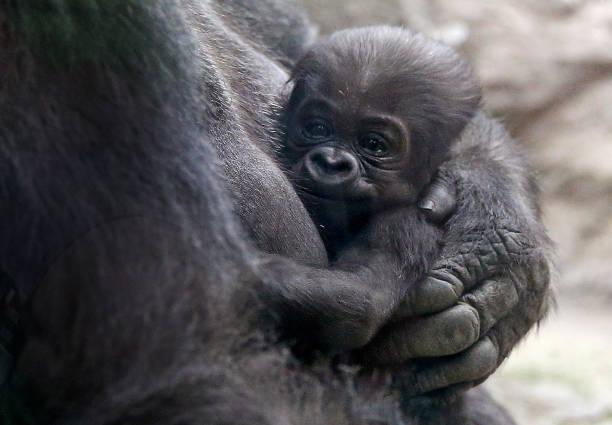gorille_Autres: (183, 1, 488, 389)
